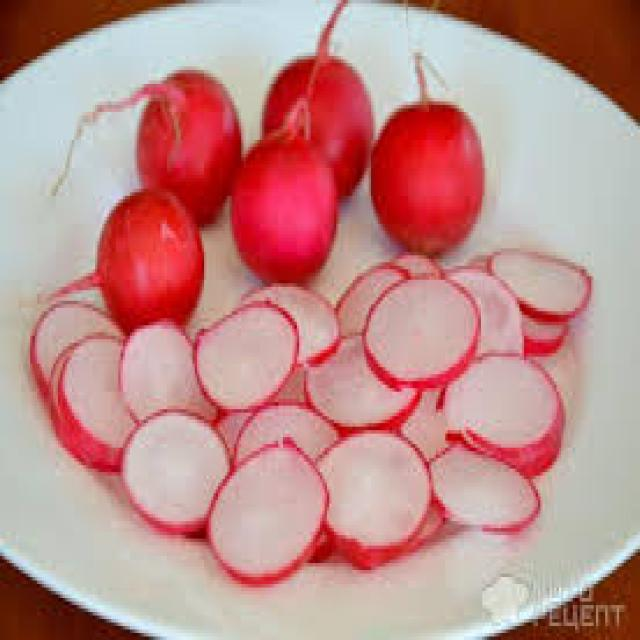rediska: (22, 263, 620, 566), (368, 87, 496, 255), (129, 64, 248, 227), (226, 129, 336, 289), (95, 192, 200, 342), (262, 53, 367, 203)
